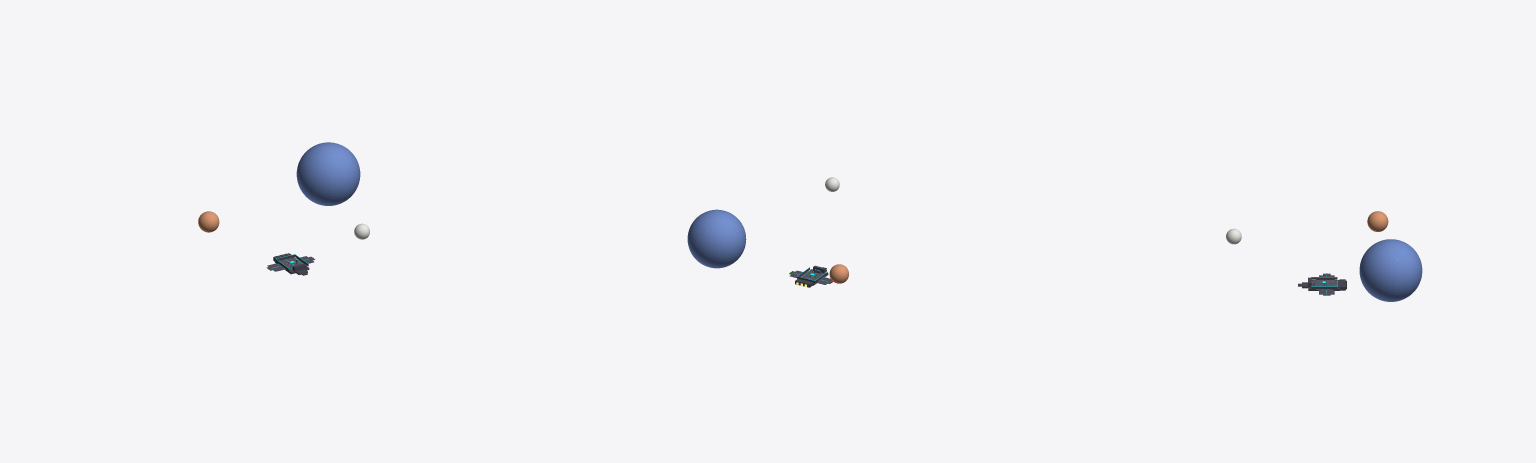
File: space_room.glb
3 renders of one model, left to right at view 1: azimuth 30°, elevation 25°; view 2: azimuth 150°, elevation 25°; view 3: azimuth 270°, elevation 25°, orthographic. The views are drawn at different scales.
Parts seen in each view (by area): view 1: Planet_Blue; view 2: Planet_Blue; view 3: Planet_Blue.
Boxes of the visible parts, bbox=[...] form: Planet_Blue: bbox=[296, 142, 360, 205]; Planet_Blue: bbox=[687, 209, 746, 268]; Planet_Blue: bbox=[1359, 239, 1422, 301].
Bounding box in the file's own units: 160 × 120 × 159.
